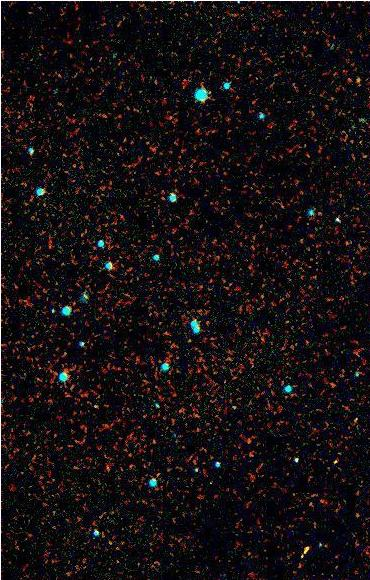star: (342, 64, 370, 94)
